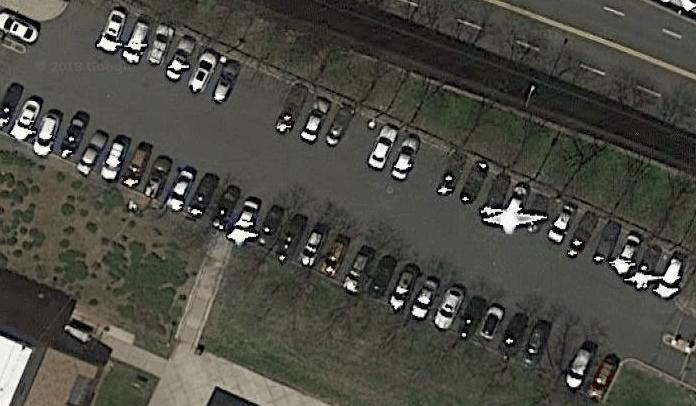parkingspot: (0, 79, 629, 406), (93, 3, 694, 309), (0, 7, 46, 50)
